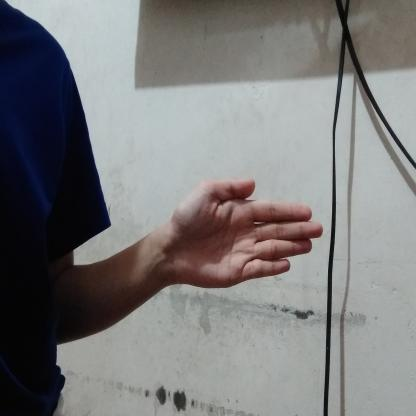ready: (152, 172, 322, 292)
